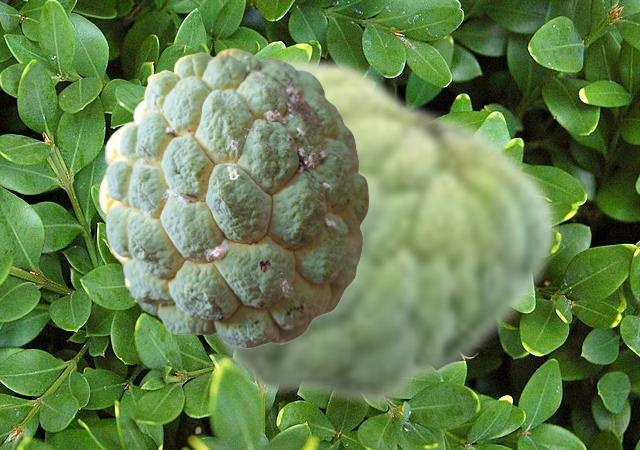atis: (199, 52, 557, 410), (98, 48, 368, 347)
